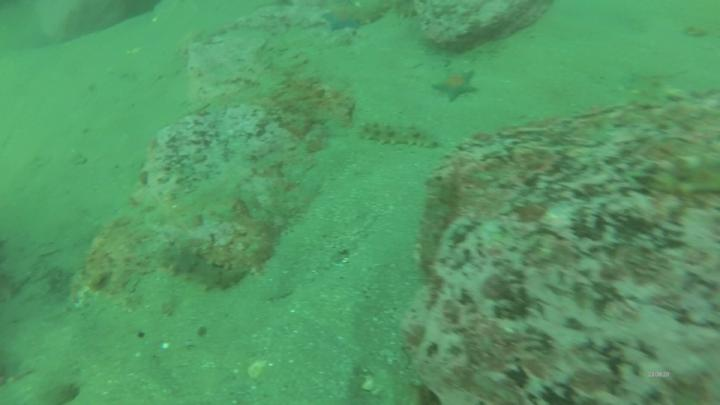holothurian: (159, 247, 250, 295), (647, 159, 720, 201), (357, 116, 441, 152)
starfish: (434, 66, 480, 104), (318, 5, 366, 35)
